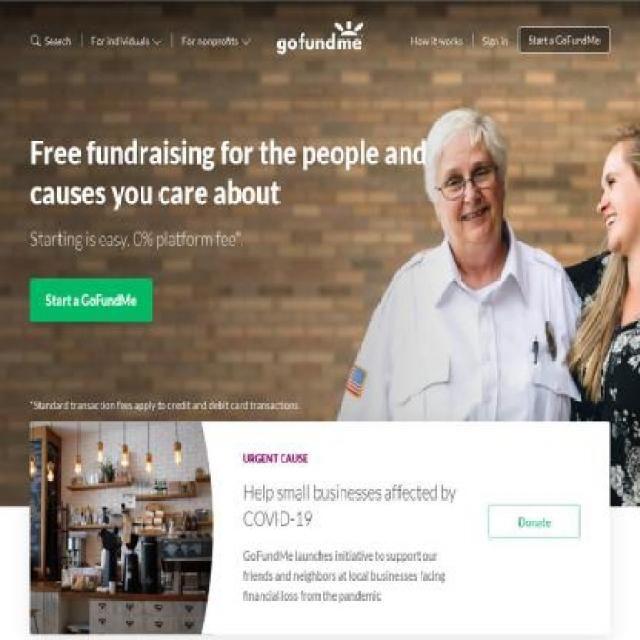button: (30, 420, 610, 634), (30, 278, 153, 322), (277, 20, 363, 60), (81, 22, 172, 58), (172, 22, 252, 58), (401, 22, 473, 58), (518, 26, 610, 54), (29, 22, 82, 58), (472, 22, 518, 58)
